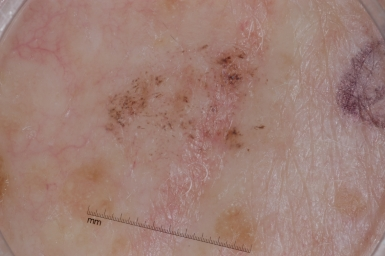seborrheic keratosis: (78, 8, 285, 202)
